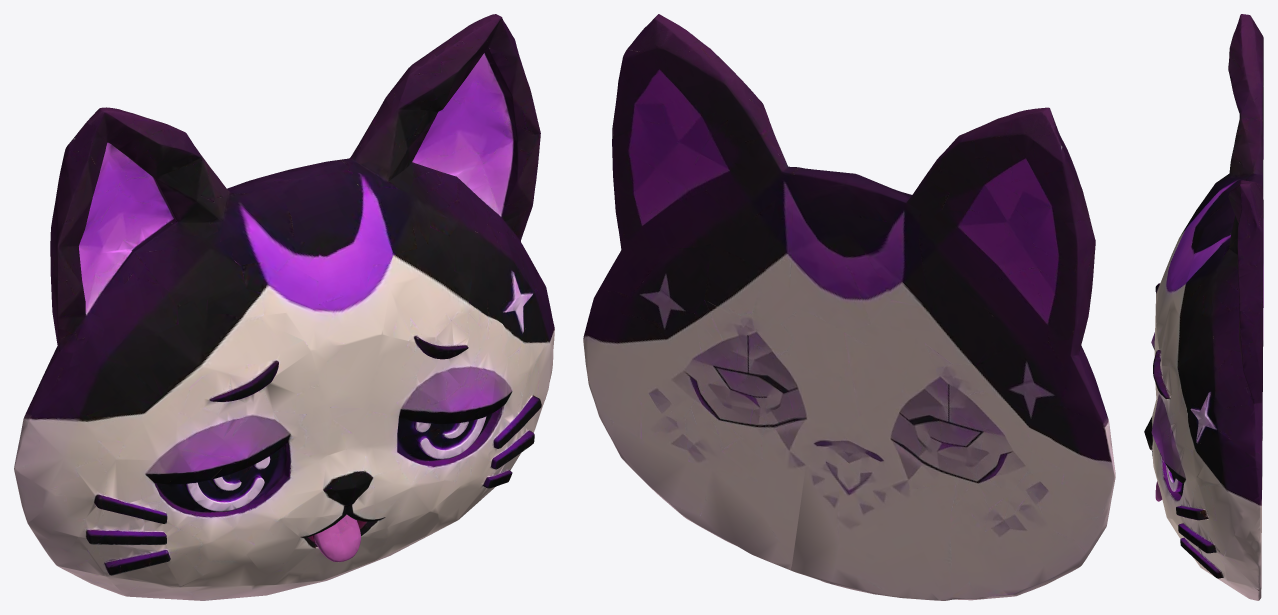
File: cat-sleepy.glb
3 renders of one model, left to right at view 1: azimuth 30°, elevation 25°; view 2: azimuth 150°, elevation 25°; view 3: azimuth 270°, elevation 25°, orthographic. The views are drawn at different scales.
Size of the model in its own units: 1.9 by 1.77 by 0.4168.
Materials: 1 (1 with a texture image).
